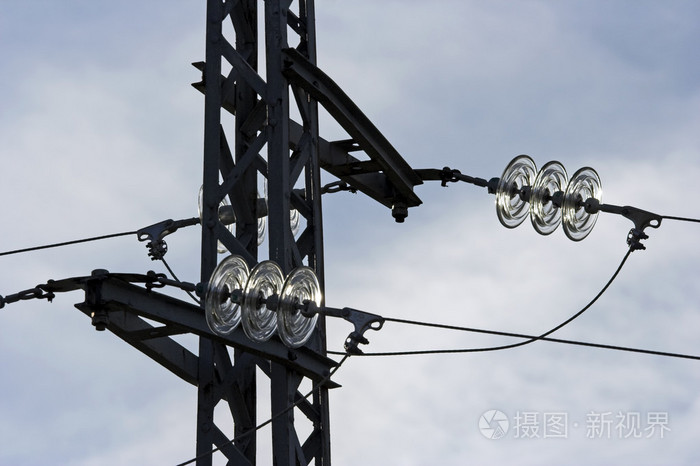insulator: (203, 254, 317, 350), (495, 149, 600, 242)
